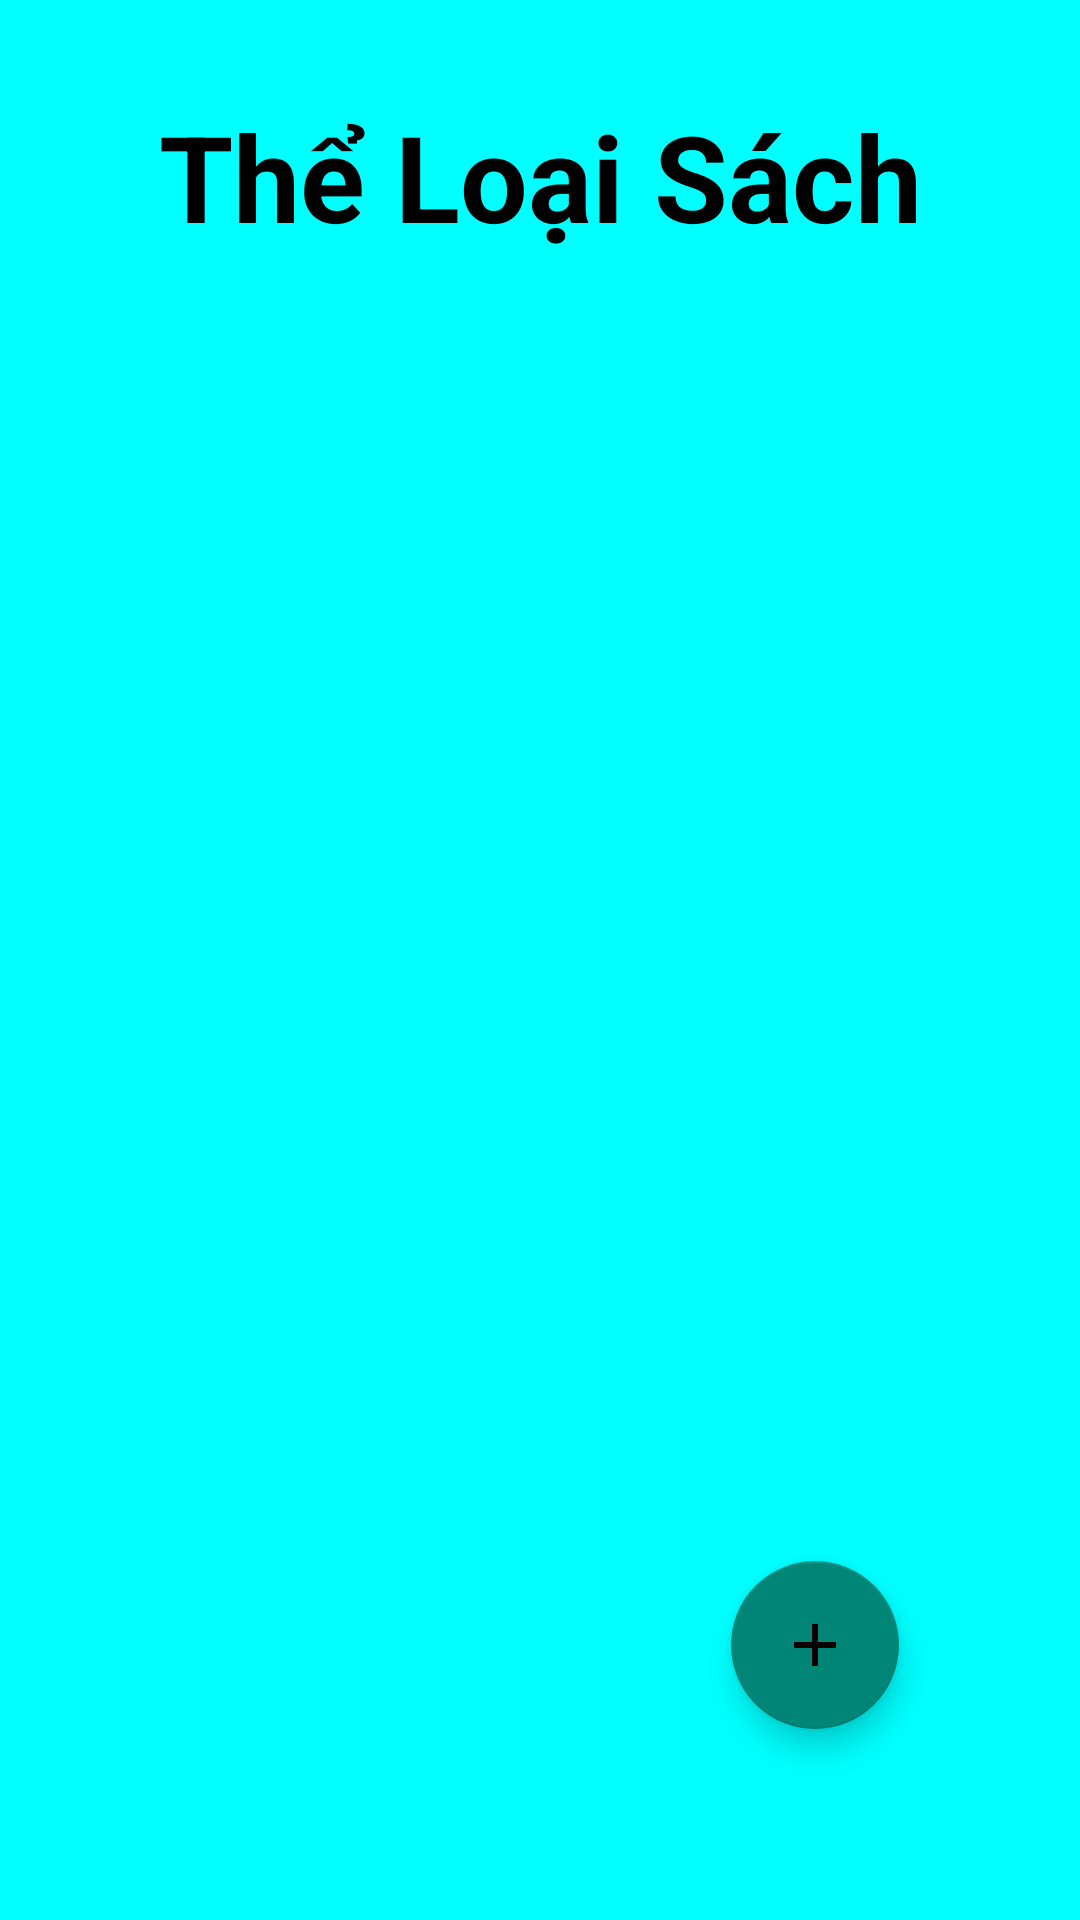

Screen size 1080 x 1920. Icon name, then its center in pixels as [x,y]:
add: [815,1645]
